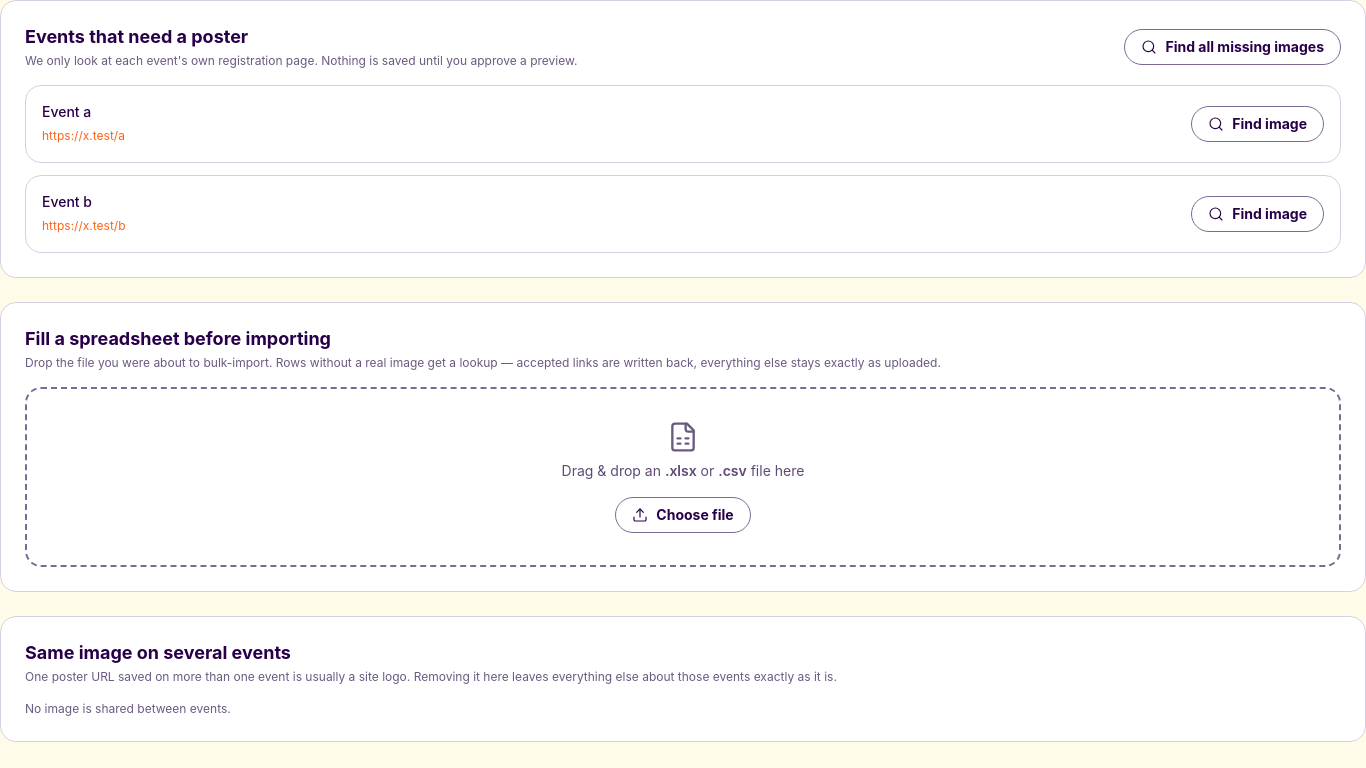
Test case: Section A — batch duplicate detection › the same image found for 2 events is flagged and its button says 'Use anyway'
Click the button "Find all missing images" at (1233, 47), box left=1124, top=29, right=1341, bottom=65
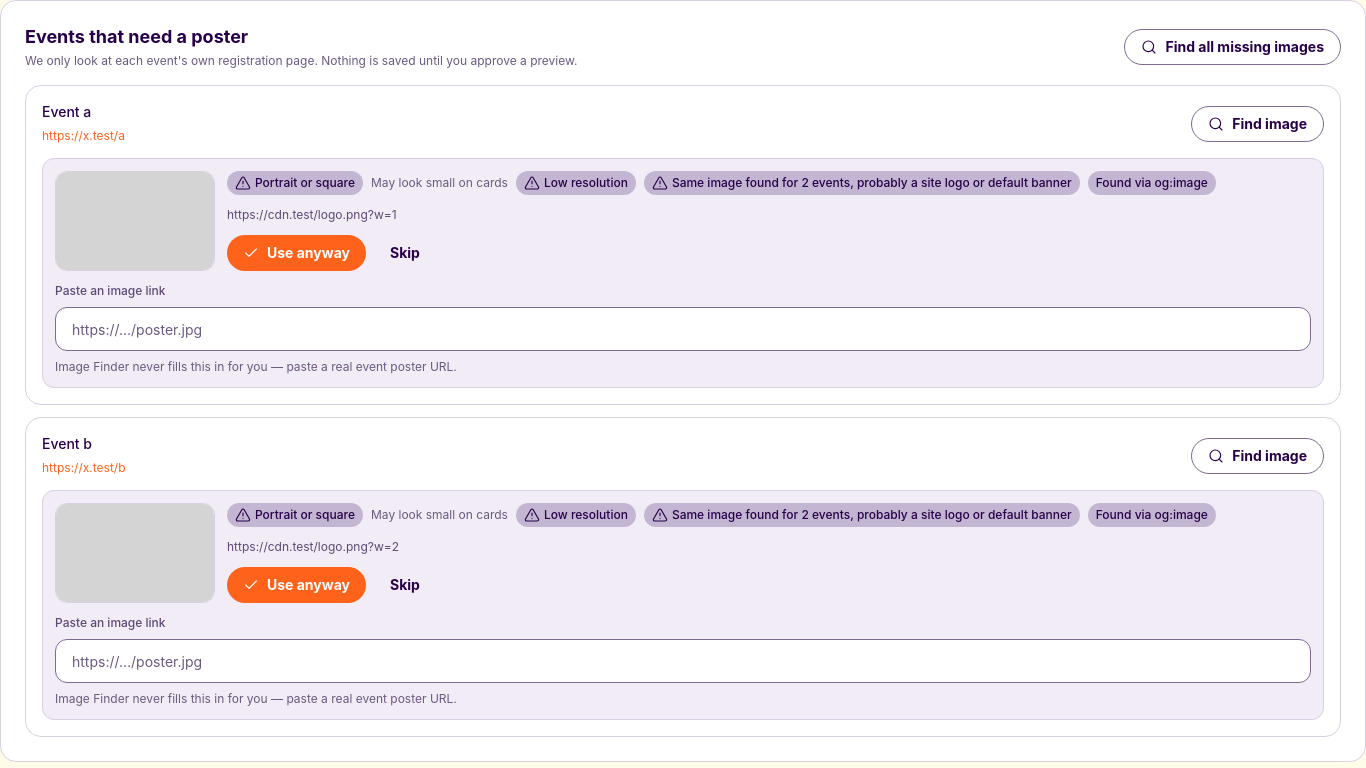
Check: the button "Use anyway" below "https://cdn.test/logo.png?w=1" is shown, box left=227, top=235, right=366, bottom=271
